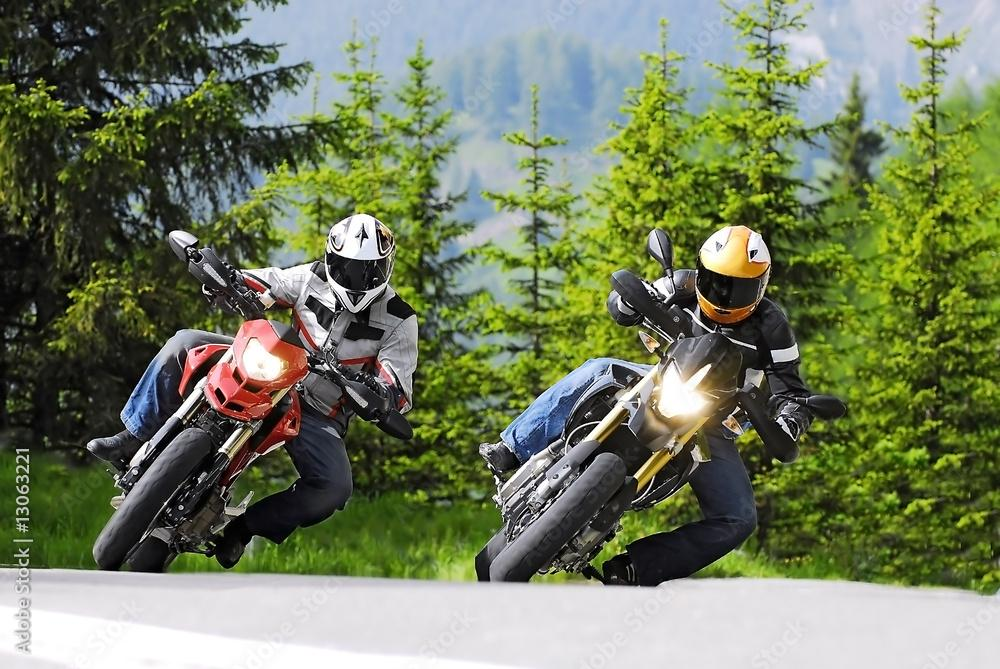helmet: (694, 224, 772, 327), (324, 213, 397, 315)
